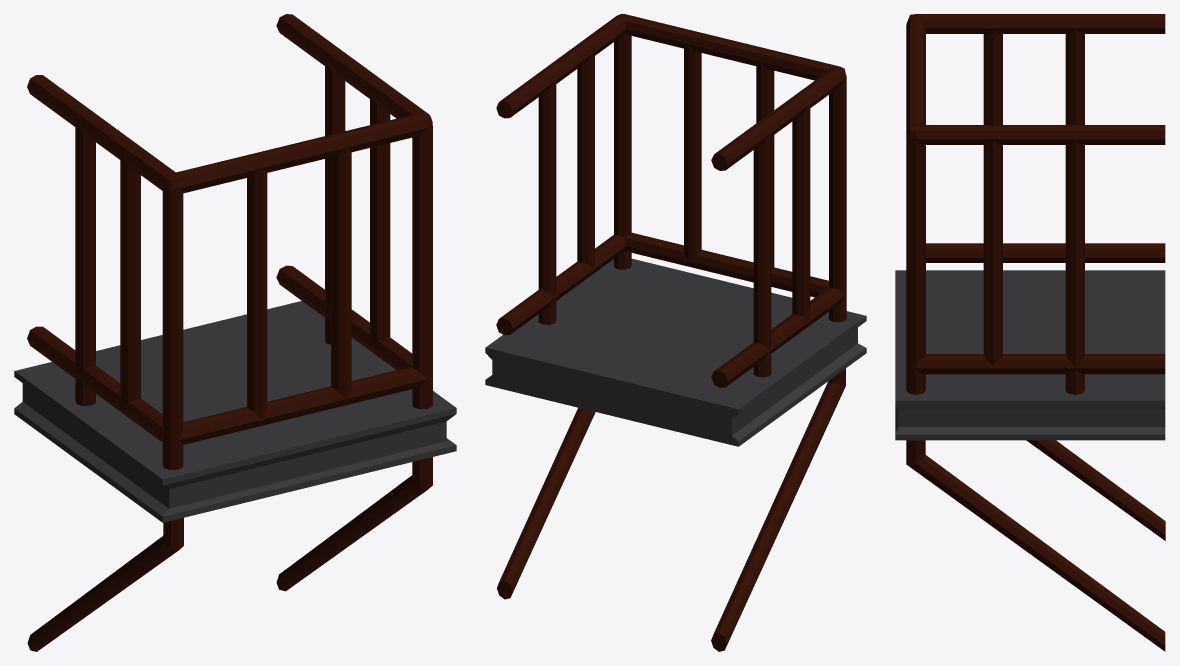
Rendered from Balcony_Small.fbx.
3 views of the same model, side by side, from view 1: azimuth 30°, elevation 25°; view 2: azimuth 150°, elevation 25°; view 3: azimuth 270°, elevation 25° (orthographic). The views are drawn at different scales.
Parts seen in each view (by area): view 1: Balcony_Small; view 2: Balcony_Small; view 3: Balcony_Small.
Boxes of the visible parts, x1,y1,x2,y2 form: Balcony_Small: (14, 14, 456, 651); Balcony_Small: (485, 14, 866, 651); Balcony_Small: (895, 14, 1165, 651).
Bounding box in the file's own units: 561 × 1053 × 491.
